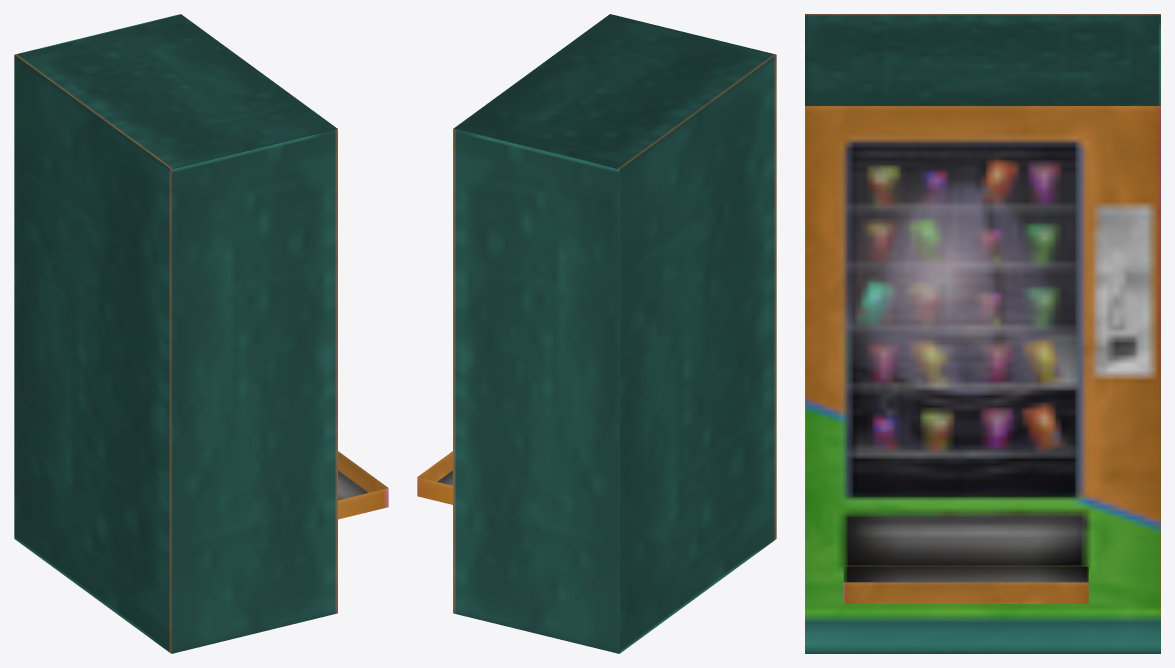
The model's file is vending m.glb.
3 renders of one model, left to right at view 1: azimuth 30°, elevation 25°; view 2: azimuth 150°, elevation 25°; view 3: azimuth 270°, elevation 25°, orthographic. The views are drawn at different scales.
Visible parts, largest first — view 1: vending m; view 2: vending m; view 3: vending m.
Part boxes in pixels (bbox=[...]): vending m: bbox=[14, 14, 388, 653]; vending m: bbox=[417, 14, 776, 653]; vending m: bbox=[805, 14, 1160, 653].
Size of the model in its own units: 204 by 403 by 237.
Materials: 1 (1 with a texture image).
